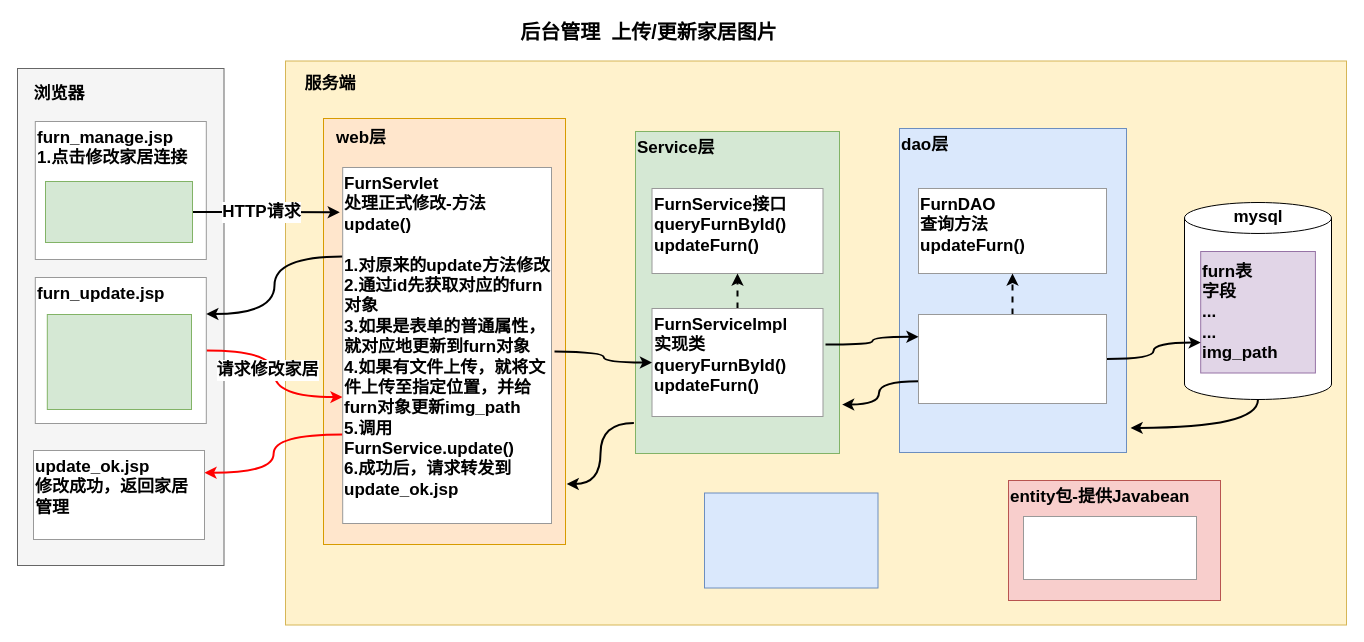
The diagram is 1364 pixels wide and 642 high, and some of its shapes have lost their labels. The shapes that lost their labels are listed below. From the top down, each one's centre as x and y in pixels, then its label:
At (118,211): "家居信息[修改链接]".
At (119,362): "1.上传图片 2.其他家居信息... [点击提交]".
At (1012,359): "FurnDAOImpl 查询方法 updateFurn()".
At (791,540): "test/junit包".
At (1109,548): "Furn.java".
